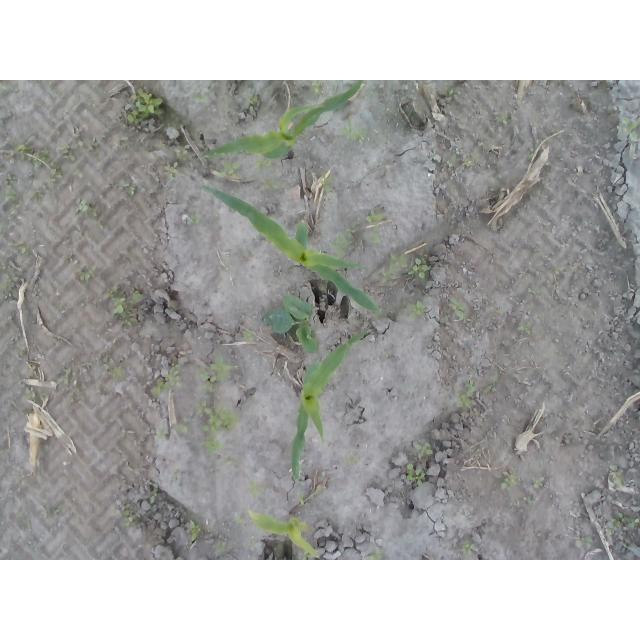Maize: (200, 182, 380, 314), (200, 81, 368, 164), (290, 330, 370, 483), (247, 504, 318, 556)
Weeds: (262, 291, 318, 354), (196, 398, 241, 455), (123, 88, 165, 127), (64, 139, 101, 178), (109, 286, 143, 327), (384, 253, 433, 281), (198, 354, 234, 392), (149, 357, 180, 398), (58, 365, 81, 403), (164, 150, 188, 185), (16, 142, 49, 166), (328, 229, 356, 257), (456, 379, 477, 412), (616, 115, 640, 139), (102, 357, 127, 380), (609, 511, 640, 529), (342, 125, 370, 144), (46, 160, 67, 184), (406, 464, 426, 489), (217, 159, 242, 178), (447, 296, 465, 321), (245, 478, 265, 500), (500, 468, 520, 488), (609, 463, 625, 488), (24, 387, 48, 402), (414, 440, 435, 457), (0, 279, 16, 301), (79, 199, 98, 217), (407, 302, 425, 321), (463, 149, 481, 168), (190, 519, 203, 542), (320, 174, 336, 192), (173, 419, 193, 433), (263, 177, 281, 192), (121, 503, 131, 529), (255, 159, 273, 173), (122, 182, 136, 198), (310, 80, 323, 97), (0, 190, 18, 202), (367, 210, 385, 222), (445, 151, 457, 169), (367, 549, 386, 560), (496, 112, 512, 125), (14, 342, 26, 359), (247, 95, 258, 113), (527, 287, 545, 298), (240, 330, 256, 342), (16, 243, 33, 254), (10, 203, 23, 217), (79, 271, 97, 281), (191, 95, 209, 105), (524, 495, 535, 511), (235, 512, 245, 529), (48, 336, 65, 346), (518, 322, 531, 335), (26, 191, 41, 202), (47, 505, 65, 514), (3, 174, 13, 190), (440, 86, 456, 96), (214, 542, 227, 554), (344, 456, 360, 465), (368, 233, 381, 244), (484, 383, 497, 393), (96, 224, 112, 232), (464, 543, 476, 553), (81, 361, 96, 369), (0, 85, 16, 92), (583, 535, 594, 545), (152, 485, 161, 497), (7, 151, 17, 161), (159, 430, 170, 439), (1, 263, 12, 272), (120, 136, 129, 147), (554, 265, 566, 273), (0, 224, 6, 240), (533, 480, 543, 489), (190, 216, 200, 225), (297, 494, 305, 505), (527, 151, 533, 161)
